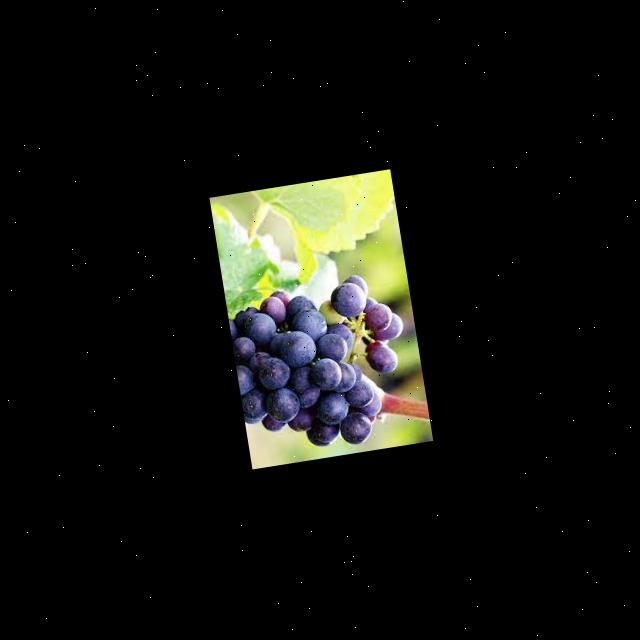grape: (225, 268, 420, 461)
